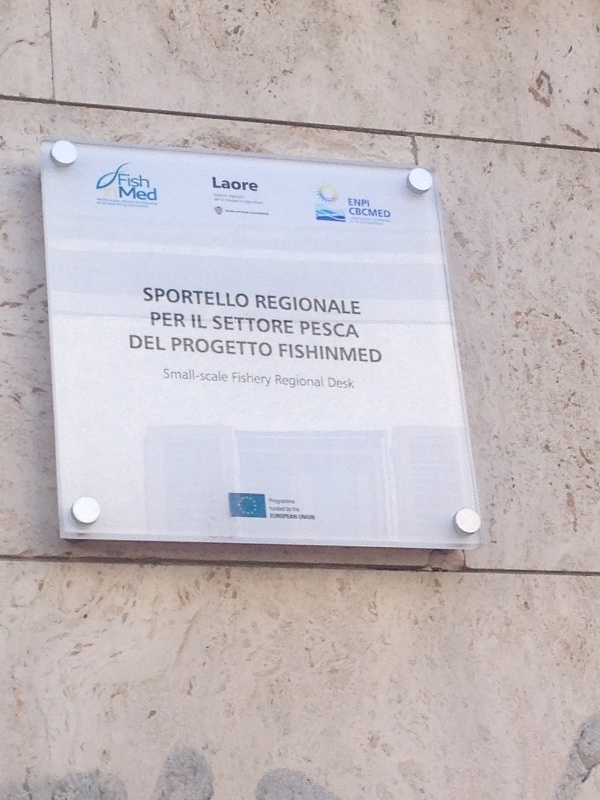text: (225, 193, 240, 218), (241, 193, 256, 218), (257, 193, 272, 218), (257, 336, 273, 359), (145, 286, 160, 310), (161, 286, 176, 310), (177, 286, 192, 310), (193, 286, 208, 310), (209, 286, 224, 310), (225, 286, 240, 310), (289, 341, 304, 365), (305, 341, 320, 365), (321, 341, 336, 365), (337, 341, 352, 365), (353, 341, 368, 365), (177, 336, 192, 359), (193, 336, 208, 359), (209, 336, 224, 359), (225, 336, 240, 359), (241, 336, 256, 359), (369, 341, 383, 365), (257, 294, 272, 316), (273, 294, 288, 316), (289, 294, 304, 316), (305, 294, 320, 316), (321, 294, 336, 316), (337, 294, 352, 316), (225, 315, 240, 336), (241, 315, 256, 336), (257, 315, 272, 336), (273, 315, 288, 336), (305, 319, 320, 340), (321, 319, 336, 340), (337, 319, 352, 340), (257, 370, 273, 389), (161, 311, 176, 330), (129, 333, 144, 352), (145, 333, 160, 352), (241, 370, 256, 389), (213, 193, 224, 218), (129, 185, 144, 203), (193, 314, 209, 330), (225, 176, 240, 193), (241, 176, 256, 193), (177, 367, 192, 384), (193, 367, 208, 384), (209, 367, 224, 384), (289, 373, 304, 390), (305, 373, 320, 390), (129, 173, 144, 189), (278, 341, 288, 365), (145, 185, 158, 203), (213, 315, 224, 336), (337, 376, 352, 391), (241, 286, 250, 310), (353, 206, 368, 220), (369, 206, 384, 220), (212, 176, 224, 193), (164, 367, 176, 384), (276, 373, 288, 390), (353, 294, 362, 316), (151, 311, 160, 330), (177, 311, 186, 330), (353, 319, 361, 340), (353, 197, 368, 208), (119, 185, 128, 203), (118, 173, 128, 189), (232, 370, 240, 389), (273, 497, 288, 506), (289, 315, 295, 336), (328, 376, 336, 391), (273, 512, 288, 520), (171, 336, 176, 359), (161, 333, 167, 352), (273, 506, 286, 513), (305, 514, 316, 522), (300, 319, 304, 340), (292, 506, 304, 513), (385, 206, 391, 220), (145, 173, 150, 189), (289, 497, 297, 506), (289, 512, 298, 520), (225, 367, 229, 384), (321, 373, 325, 390), (353, 376, 356, 391), (348, 197, 352, 208), (349, 206, 352, 220), (299, 514, 304, 522), (269, 497, 272, 506), (143, 286, 144, 310), (289, 506, 292, 514), (255, 294, 256, 316), (369, 197, 371, 208), (257, 176, 258, 193), (191, 314, 192, 330), (270, 512, 272, 520), (270, 506, 272, 513), (287, 506, 288, 514)
